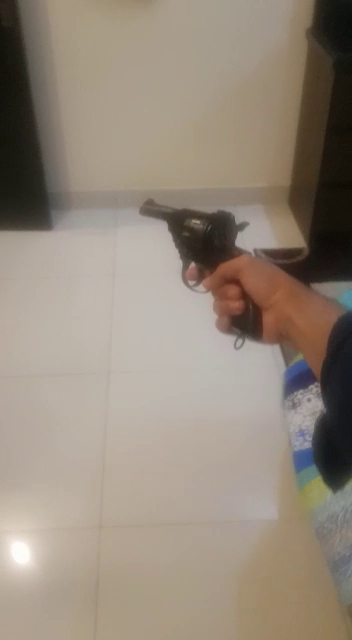handgun: (103, 185, 281, 372)
